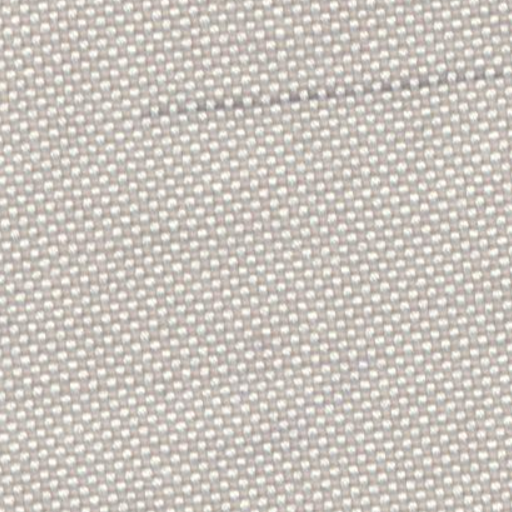WuZi: (133, 68, 500, 120)
